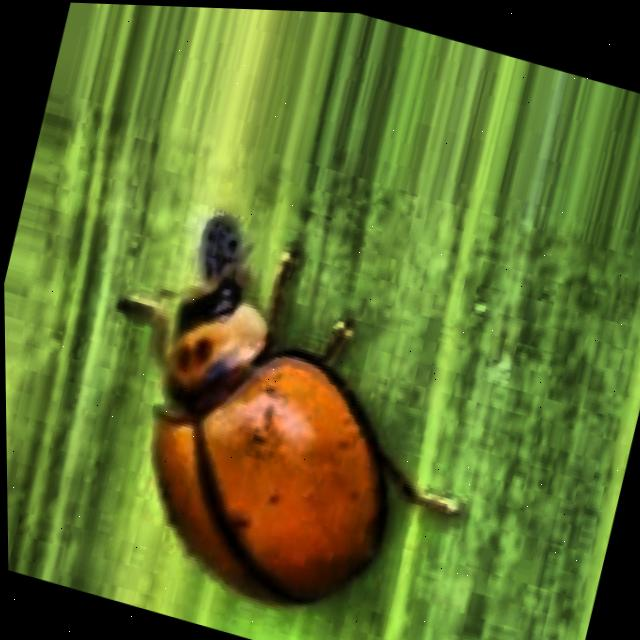Ladybug: (9, 134, 510, 640)
